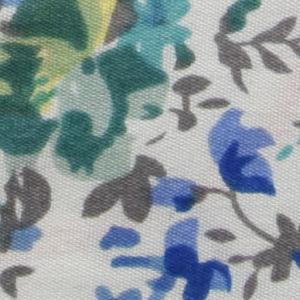Stain: (1, 1, 124, 127)
